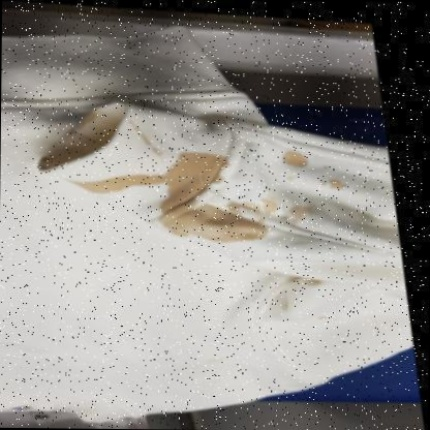coffee: (169, 208, 264, 239), (96, 173, 172, 192), (172, 159, 214, 193), (284, 151, 307, 167)
